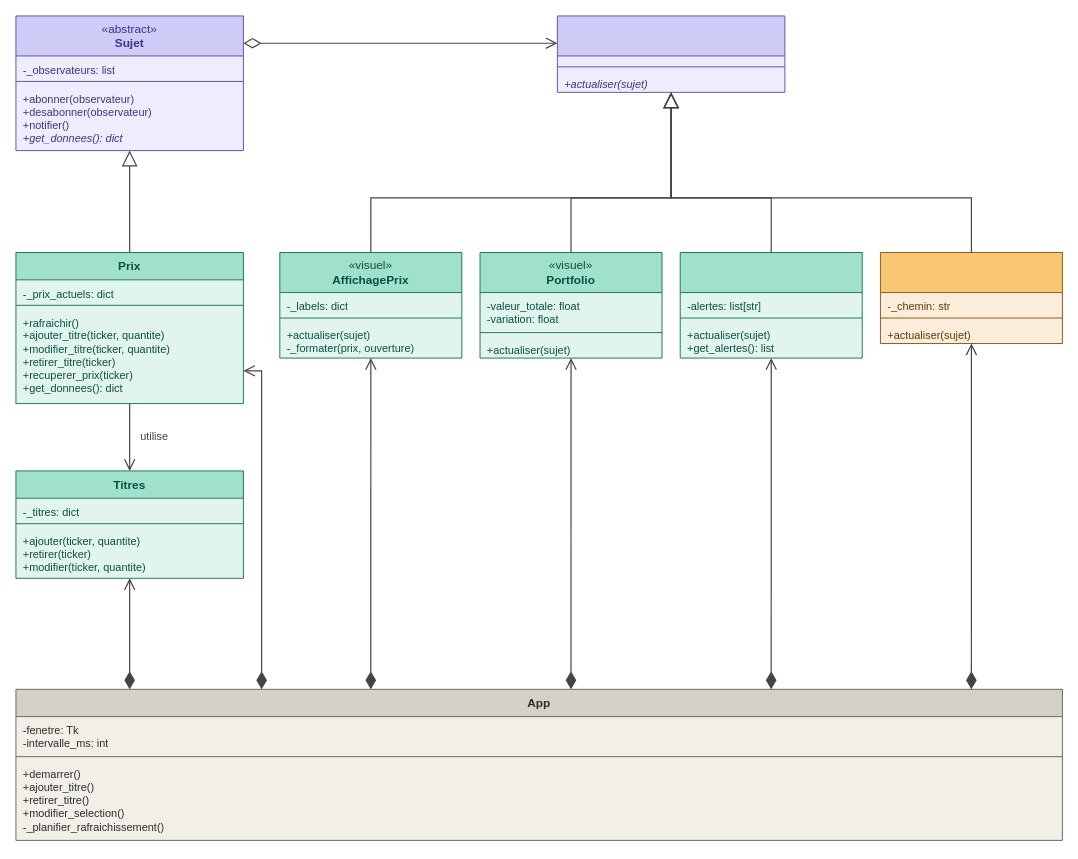
This 1078x859 diagram has some shape labels left out. The box of each missing label's shape, as (x1, y1, x2, y2) in pixels:
«abstract» Observateur: (556, 15, 785, 92)
«non visuel» JournalCSV: (880, 252, 1062, 344)
«visuel» Alertes: (679, 252, 862, 358)
